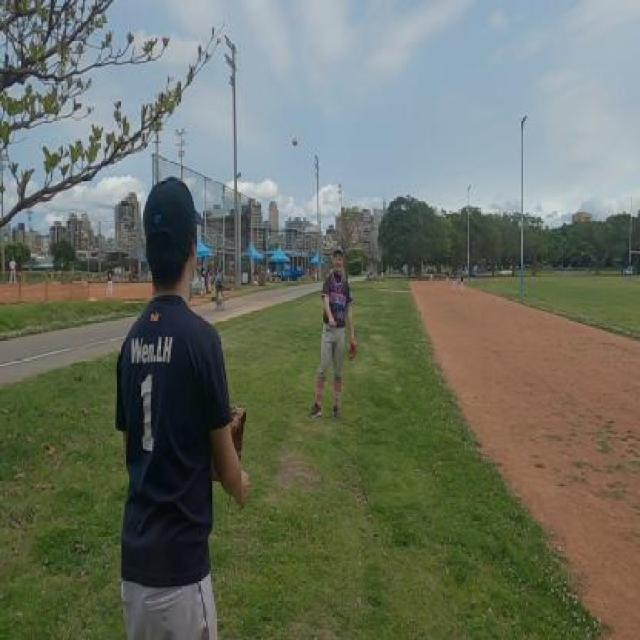baseball: (292, 136, 298, 147)
